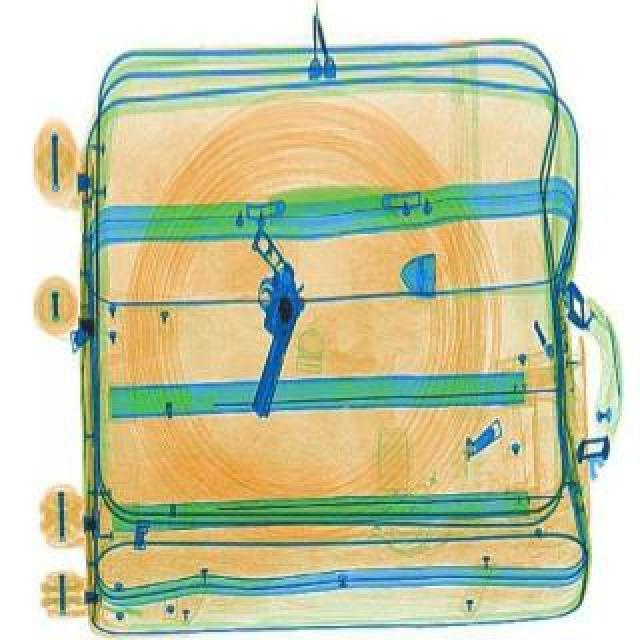gun: (198, 228, 328, 416)
